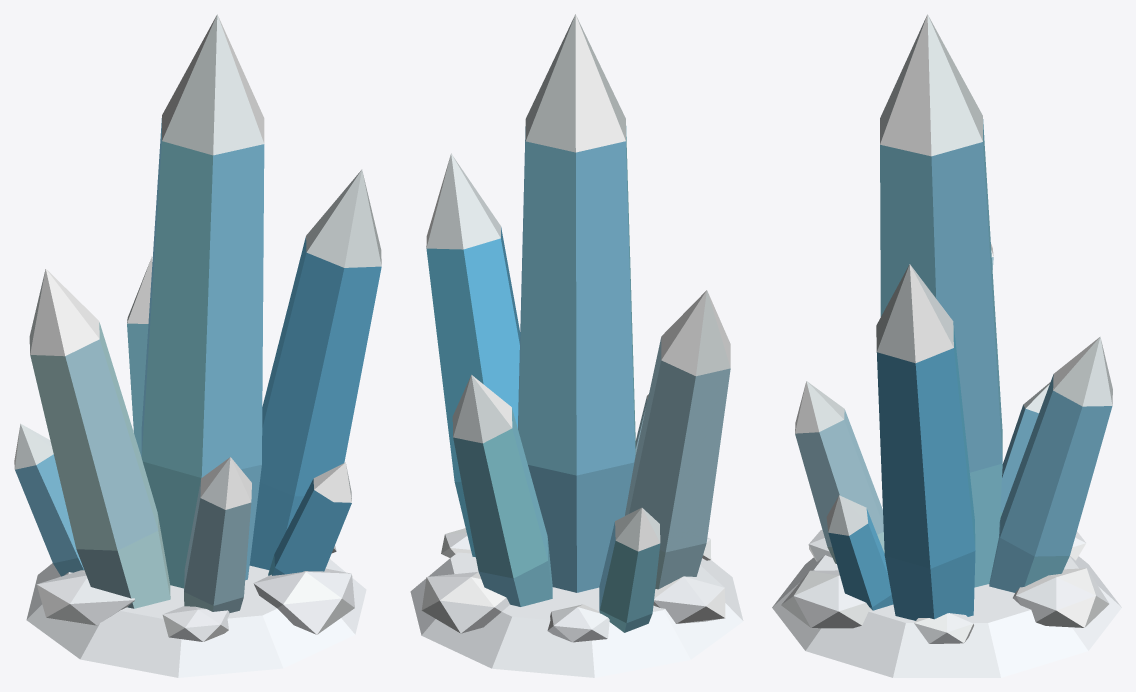
The model's file is ice-spire.glb.
3 views of the same model, side by side, from view 1: azimuth 30°, elevation 25°; view 2: azimuth 150°, elevation 25°; view 3: azimuth 270°, elevation 25° (orthographic). The views are drawn at different scales.
Parts seen in each view (by area): view 1: ice-spire; view 2: ice-spire; view 3: ice-spire.
Boxes of the visible parts, bbox=[...] form: ice-spire: bbox=[14, 14, 381, 677]; ice-spire: bbox=[410, 14, 743, 677]; ice-spire: bbox=[772, 14, 1121, 677].
Size of the model in its own units: 10.98 by 18.89 by 10.
1 material, 1 textured.
